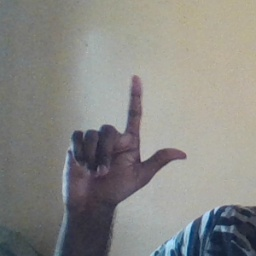L: (54, 73, 189, 207)
